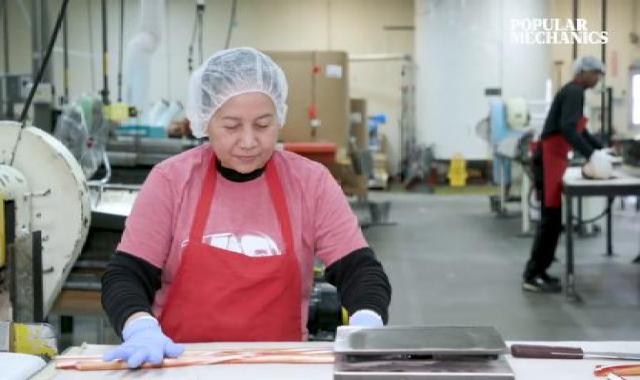hairnet: (187, 43, 303, 137), (568, 55, 616, 80)
